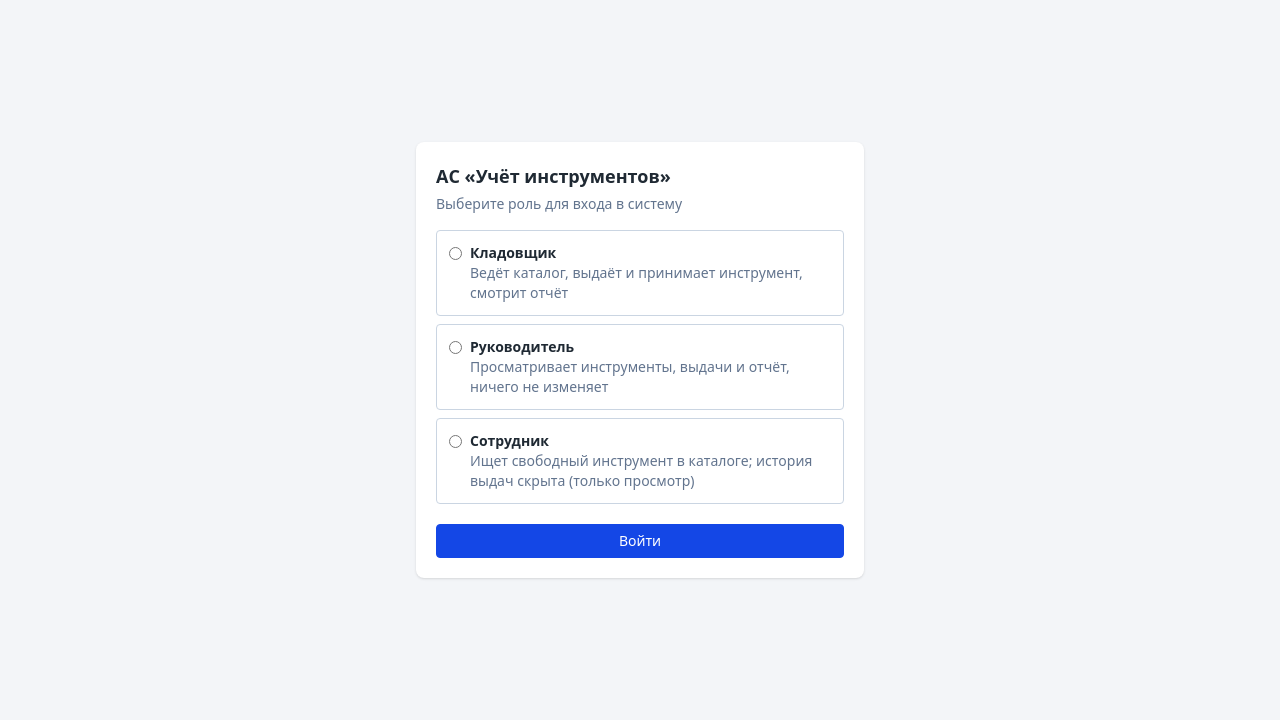
Test: role-based access › returns to the requested page after the manager signs in
Step 1. Click the radio button labelled "Руководитель" → (456, 348), box [449,341,462,354]
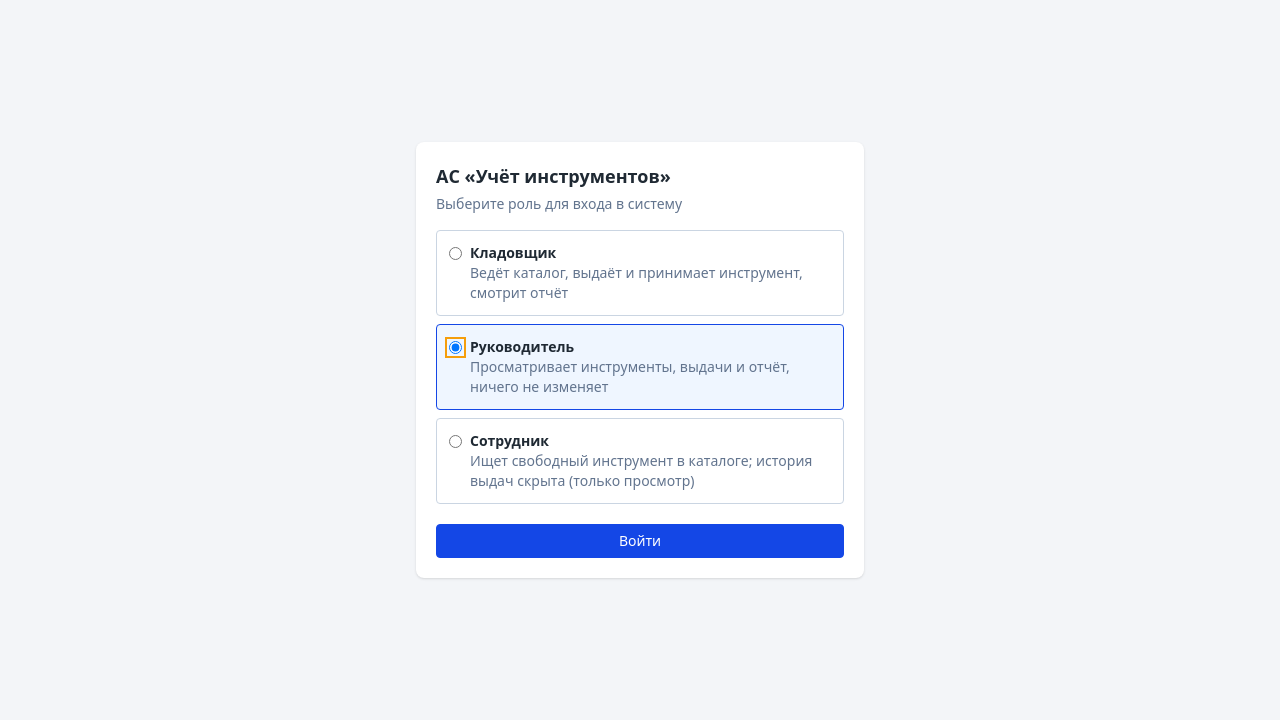
Step 2. Click the button "Войти" → (640, 541), box [436,524,844,558]
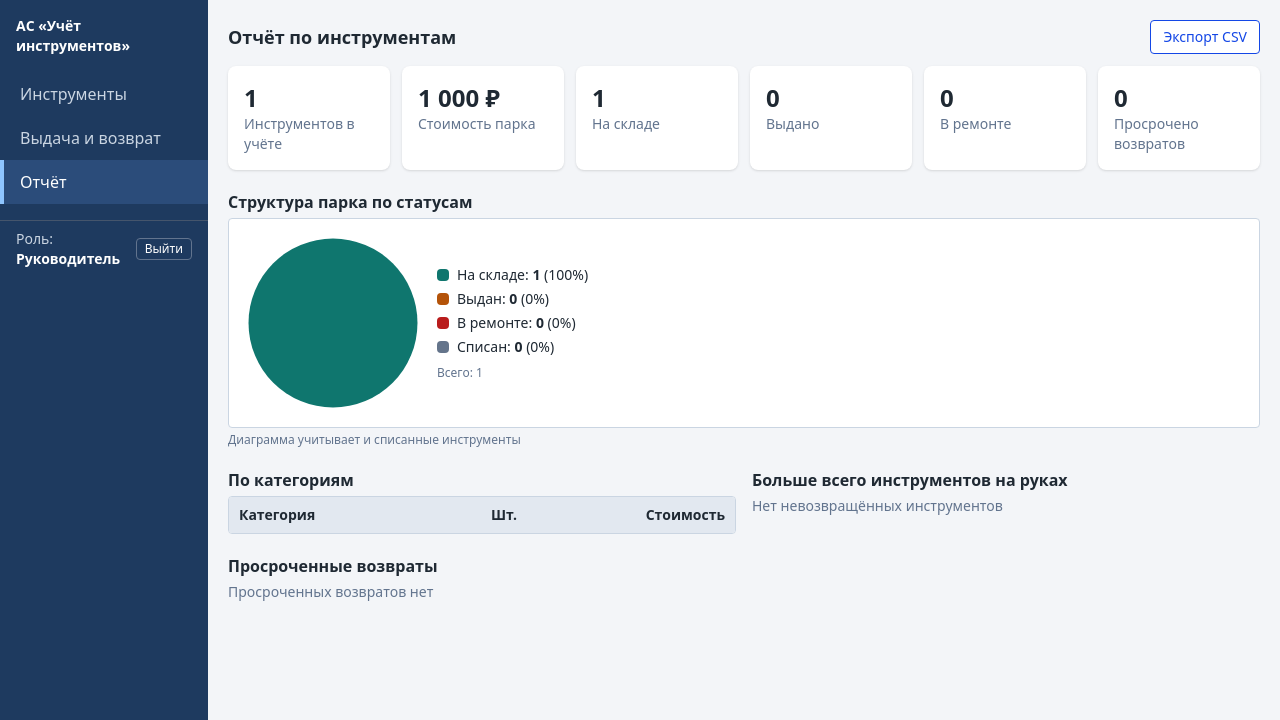
Expected: the heading "Отчёт по инструментам" is shown, [228,23,456,51]
Expected: the text "Роль: Руководитель" is shown, [16,229,128,269]
